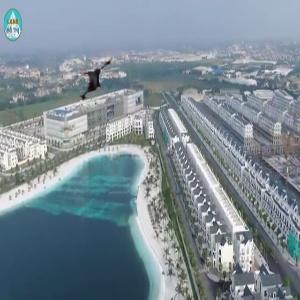drone: (62, 50, 126, 114)
